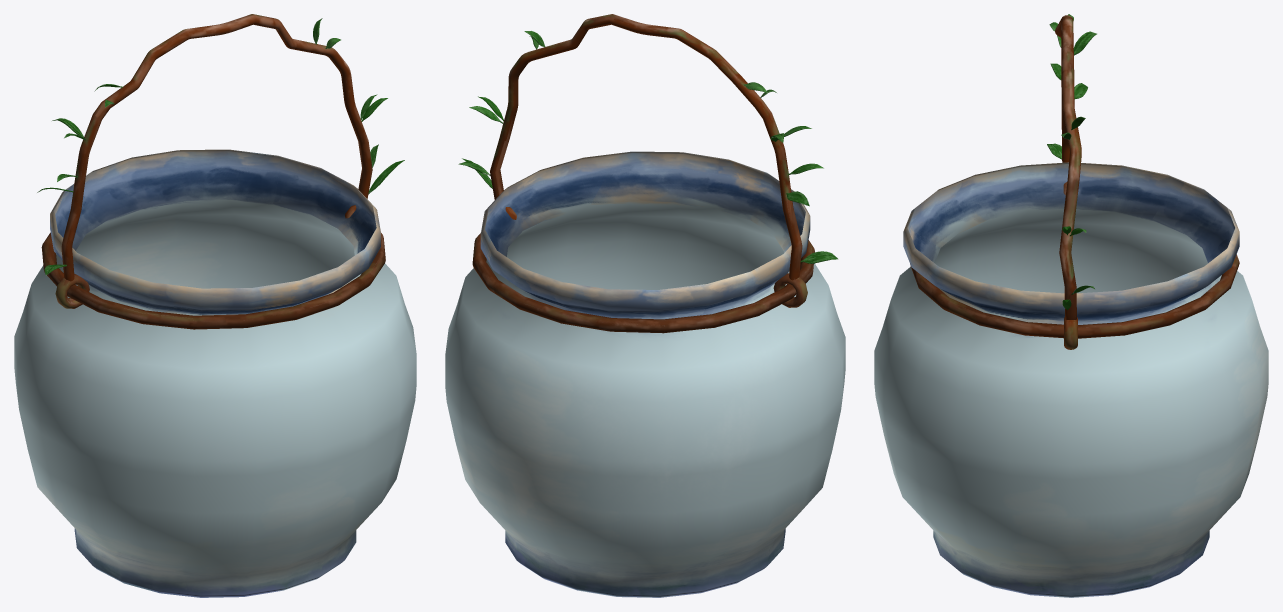
Rendered from 01_Glass_Jar_01.fbx.
3 renders of one model, left to right at view 1: azimuth 30°, elevation 25°; view 2: azimuth 150°, elevation 25°; view 3: azimuth 270°, elevation 25°, orthographic. The views are drawn at different scales.
Parts seen in each view (by area): view 1: Jar_Glass_geo, Jar_Handle_geo, Jar_Handle2_geo, Torus_Handle1_geo1; view 2: Jar_Glass_geo, Jar_Handle_geo, Jar_Handle2_geo, Torus_Handle1_geo1; view 3: Jar_Glass_geo, Jar_Handle2_geo, Jar_Handle_geo.
Part boxes in pixels (left/top/right/bottom): Jar_Glass_geo: left=14, top=149, right=416, bottom=597; Jar_Handle_geo: left=61, top=14, right=372, bottom=281; Jar_Handle2_geo: left=41, top=232, right=385, bottom=329; Torus_Handle1_geo1: left=55, top=274, right=89, bottom=308; Jar_Glass_geo: left=445, top=151, right=845, bottom=597; Jar_Handle_geo: left=490, top=14, right=802, bottom=280; Jar_Handle2_geo: left=472, top=233, right=814, bottom=333; Torus_Handle1_geo1: left=773, top=273, right=807, bottom=307; Jar_Glass_geo: left=874, top=162, right=1268, bottom=597; Jar_Handle2_geo: left=910, top=254, right=1239, bottom=338; Jar_Handle_geo: left=1055, top=15, right=1081, bottom=319.
Size of the model in its own units: 41.52 by 56.18 by 39.37.
